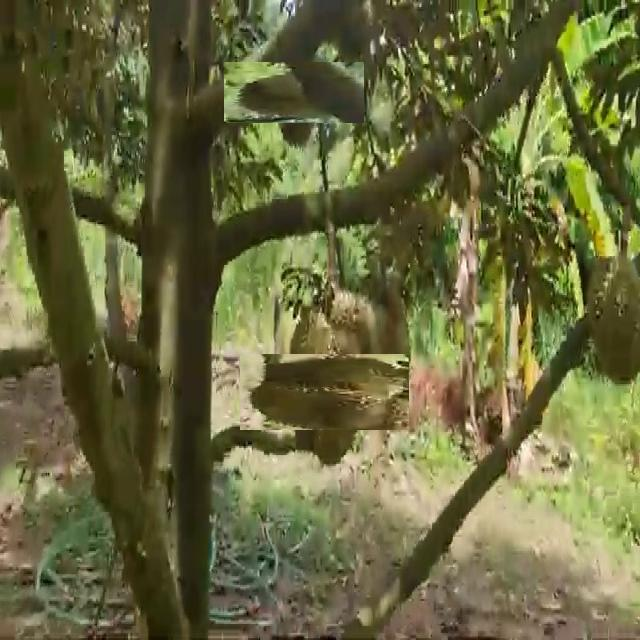durian: (263, 330, 386, 453), (283, 281, 378, 407), (243, 41, 344, 143), (348, 265, 412, 419), (582, 253, 639, 393)
